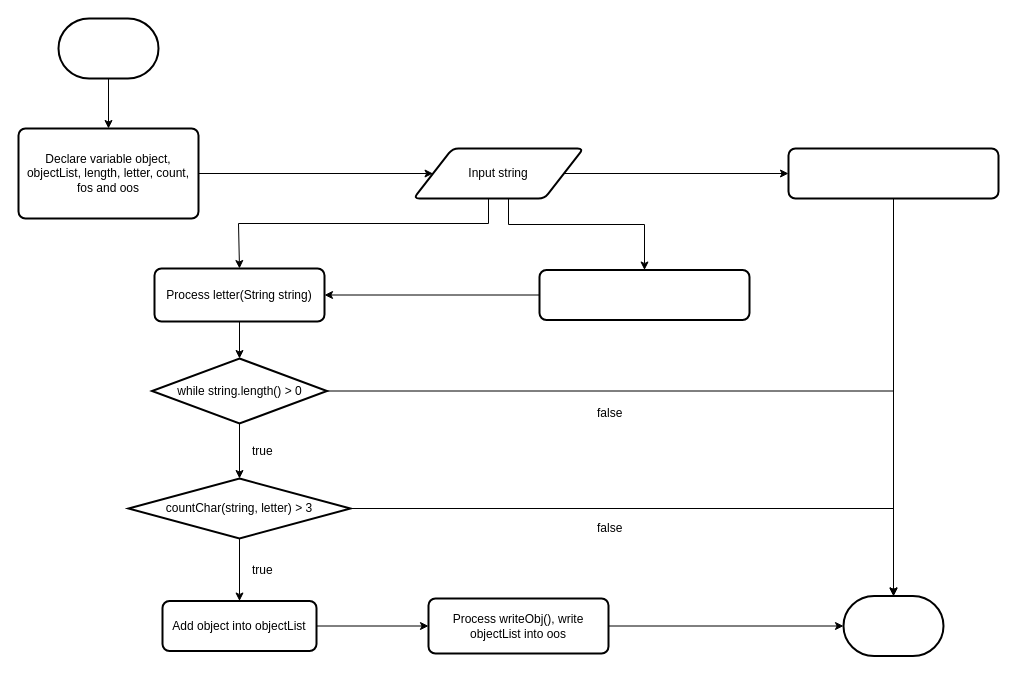
The diagram is 1016 pixels wide and 674 high, and some of its shapes have lost their labels. The box of each missing label's shape, as (x1, y1, x2, y2) in pixels:
Process countChar(String string, char ch) and return count: (538, 268, 750, 320)
Process length(String string) and return length: (787, 147, 999, 199)
Start: (57, 17, 159, 79)
Stop: (842, 594, 944, 656)
